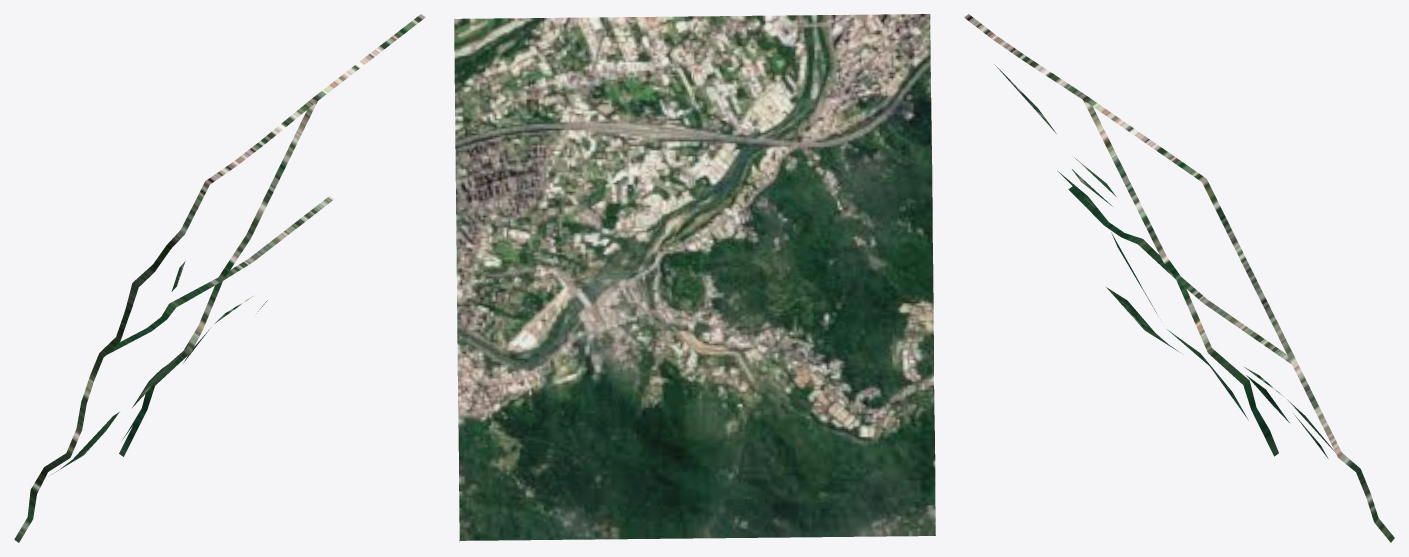
3 views of the same model, side by side, from view 1: azimuth 30°, elevation 25°; view 2: azimuth 150°, elevation 25°; view 3: azimuth 270°, elevation 25° (orthographic). The views are drawn at different scales.
Bounding box in the file's own units: 4942 × 4423 × 4195.
1 material, 1 textured.
